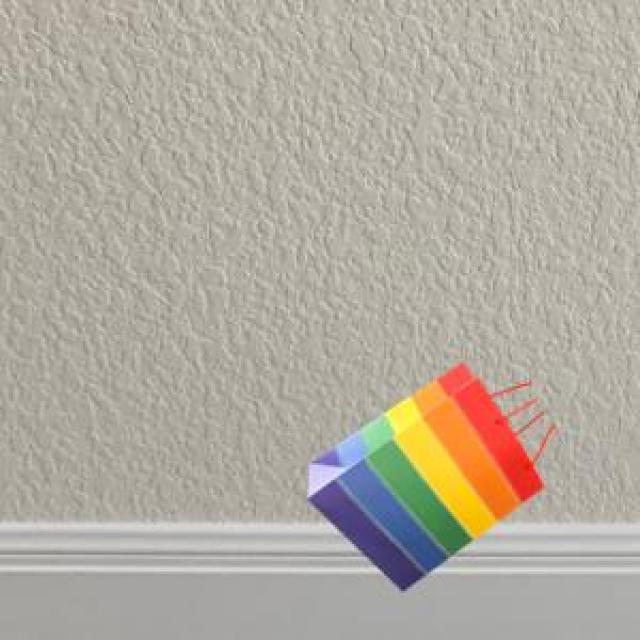paper: (303, 358, 538, 587)
